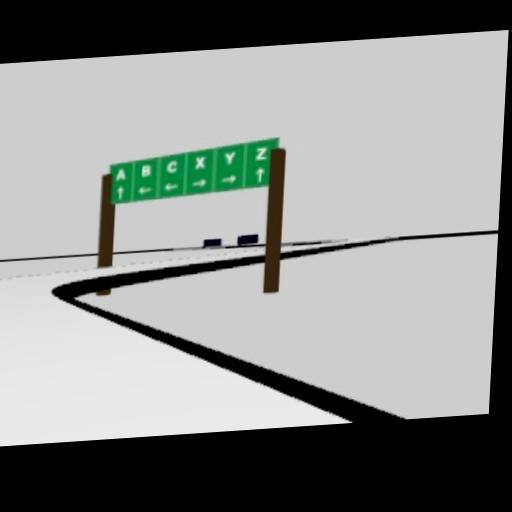A: (115, 168, 126, 181)
B: (140, 163, 151, 176)
C: (165, 160, 176, 172)
Left: (190, 178, 206, 187), (163, 181, 178, 190), (138, 185, 151, 194)
Right: (220, 175, 236, 184)
Straight: (254, 167, 264, 183), (117, 187, 124, 200)
X: (195, 156, 205, 168)
Y: (223, 150, 235, 164)
Z: (253, 145, 267, 159)
